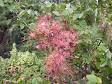Diseased_Leaves: (57, 32, 74, 56), (38, 15, 54, 39)
